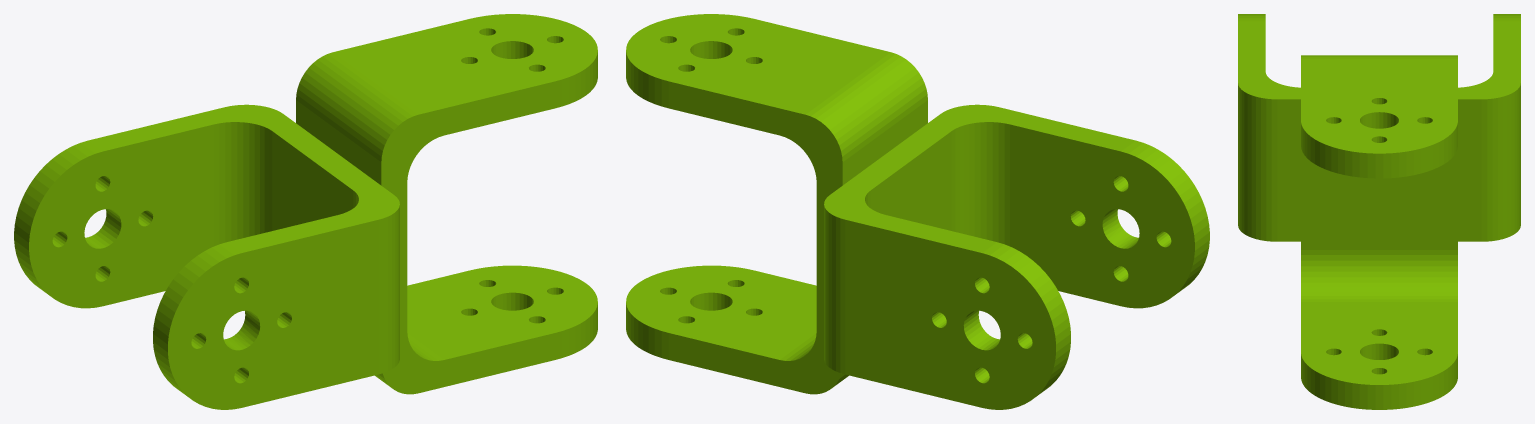
File: hexy_urdf_v2_6_dae_Coxa_2_vis_1.dae
3 views of the same model, side by side, from view 1: azimuth 30°, elevation 25°; view 2: azimuth 150°, elevation 25°; view 3: azimuth 270°, elevation 25° (orthographic). The views are drawn at different scales.
Parts seen in each view (by area): view 1: node; view 2: node; view 3: node.
Part boxes in pixels (left/top/right/bottom): node: left=14, top=14, right=597, bottom=409; node: left=626, top=14, right=1209, bottom=409; node: left=1238, top=14, right=1520, bottom=409.
Bounding box in the file's own units: 0.3349 × 0.18 × 0.18.
